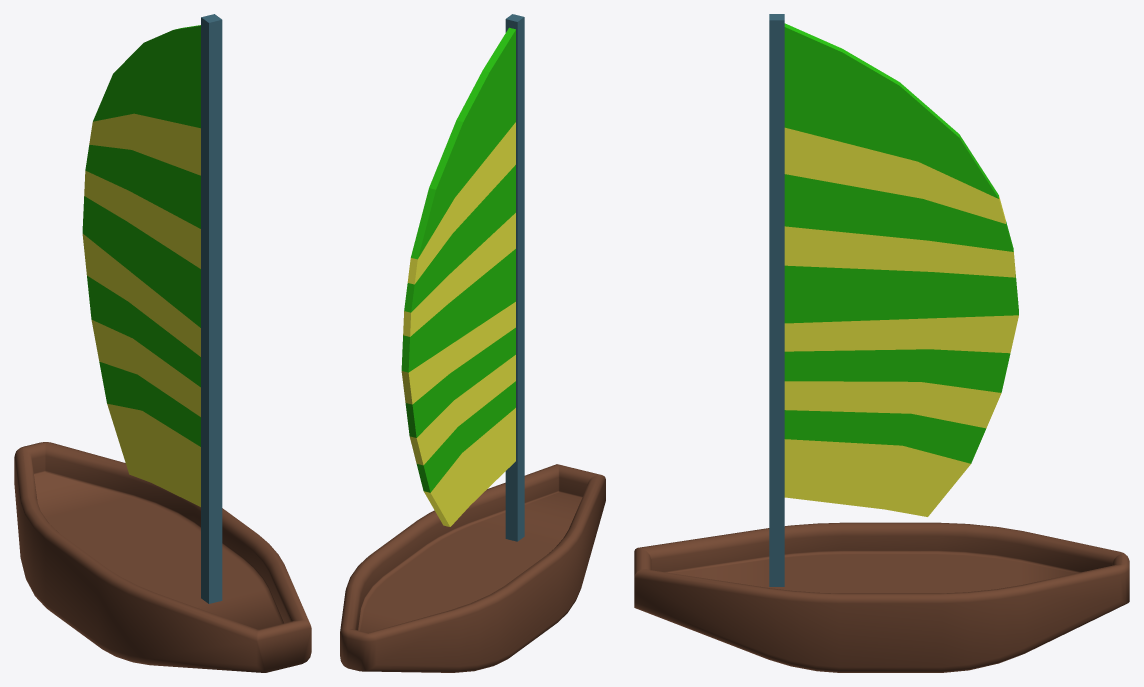
File: boat 3.fbx
The picture shows the model from 3 angles, left to right: view 1: azimuth 30°, elevation 25°; view 2: azimuth 150°, elevation 25°; view 3: azimuth 270°, elevation 25°; orthographic projection. The views are drawn at different scales.
Visible parts, largest first — view 1: Cube.045; view 2: Cube.045; view 3: Cube.045.
Boxes of the visible parts, x1=… form: Cube.045: x1=14, y1=14, x2=311, y2=672; Cube.045: x1=340, y1=14, x2=605, y2=672; Cube.045: x1=634, y1=14, x2=1129, y2=672.
Bounding box in the file's own units: 5.71 × 21.47 × 15.52.
1 material, 1 textured.
